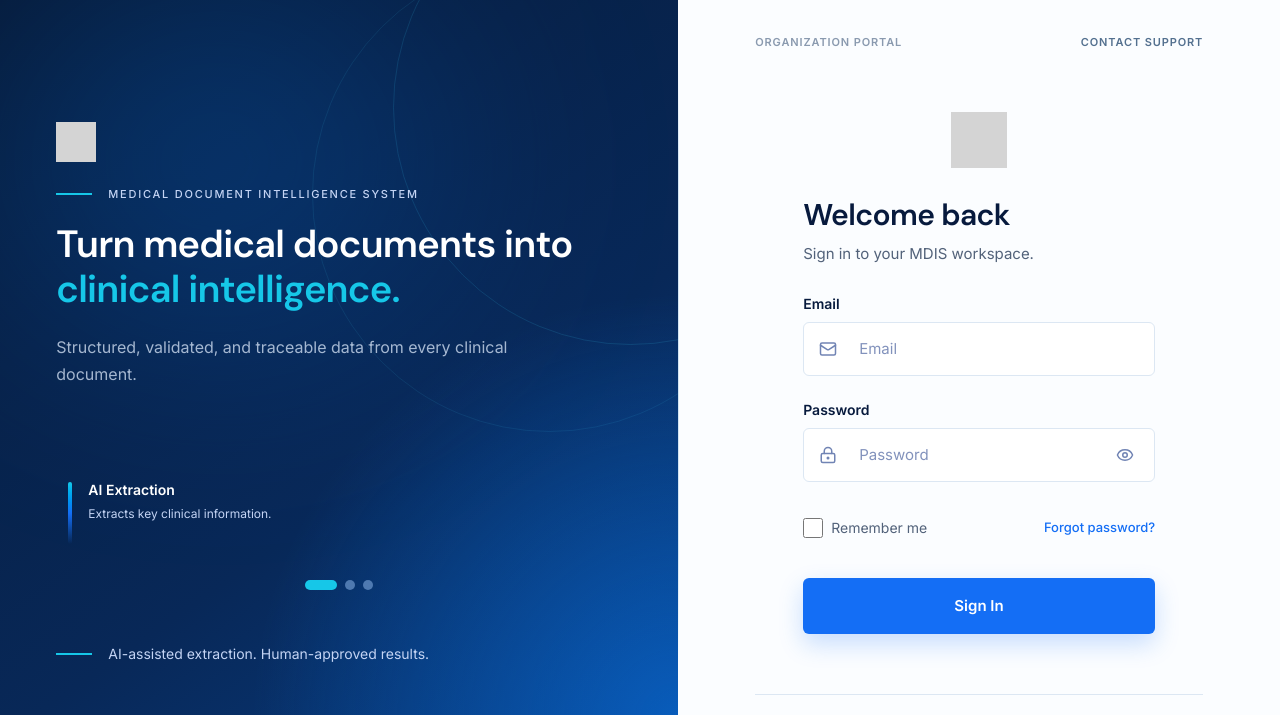
Test: frontend authentication core › shows the account status page for pending_email_verification
Type "clinician@example.test" into the field labelled "Email".
click(979, 348); type("clinician@example.test")  # box [803, 322, 1155, 376]
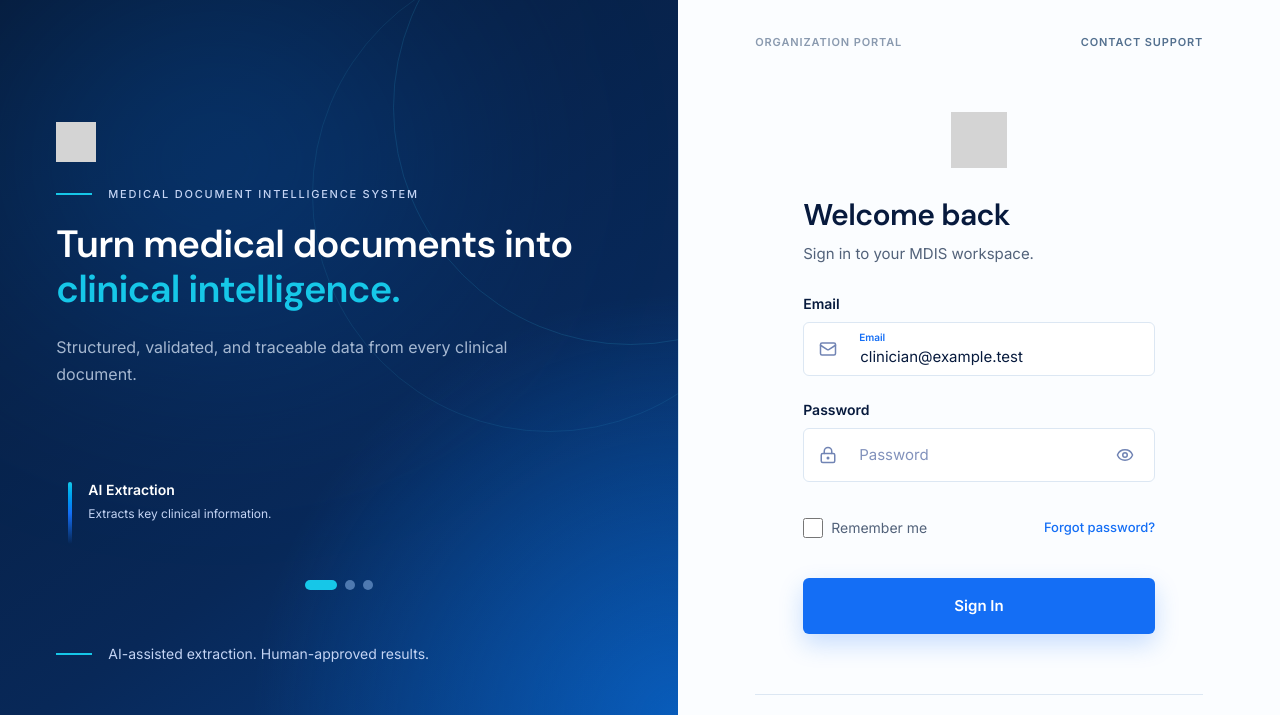
Type "synthetic secret phrase" into the password field labelled "Password".
click(979, 454); type("synthetic secret phrase")  # box [803, 428, 1155, 482]
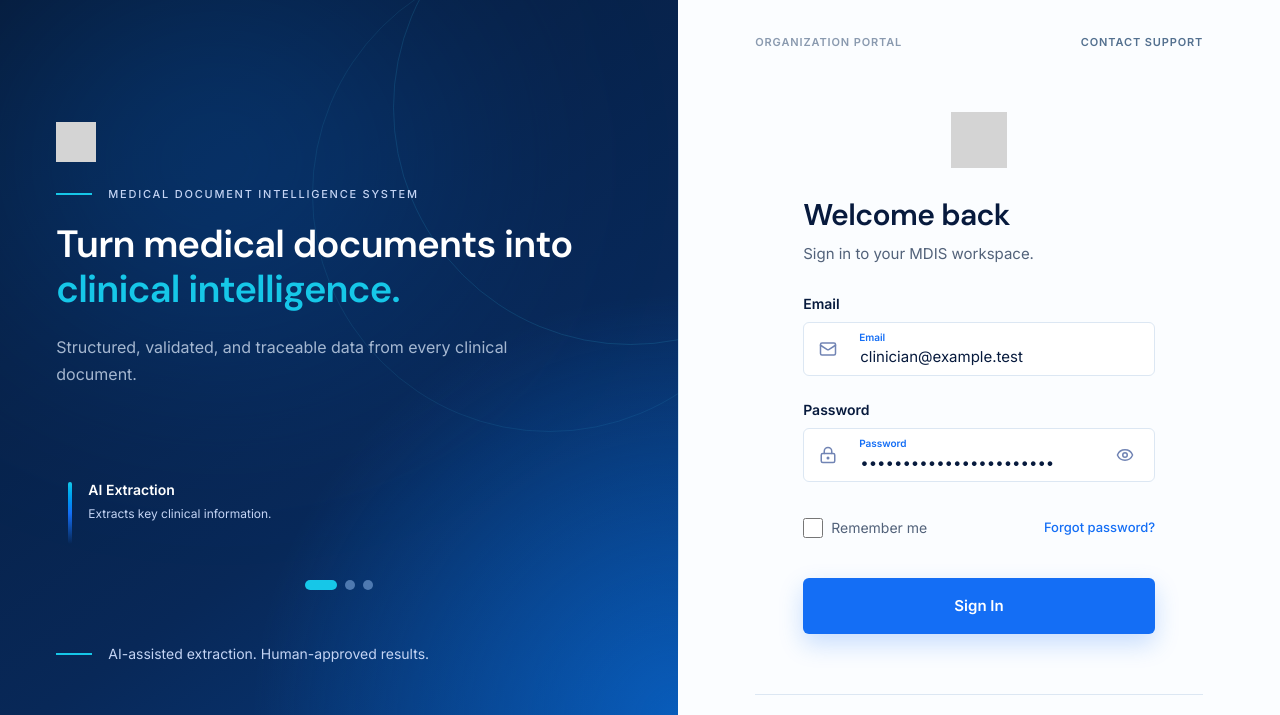
Click the button "Sign In".
click(979, 606)  # box [803, 578, 1155, 634]
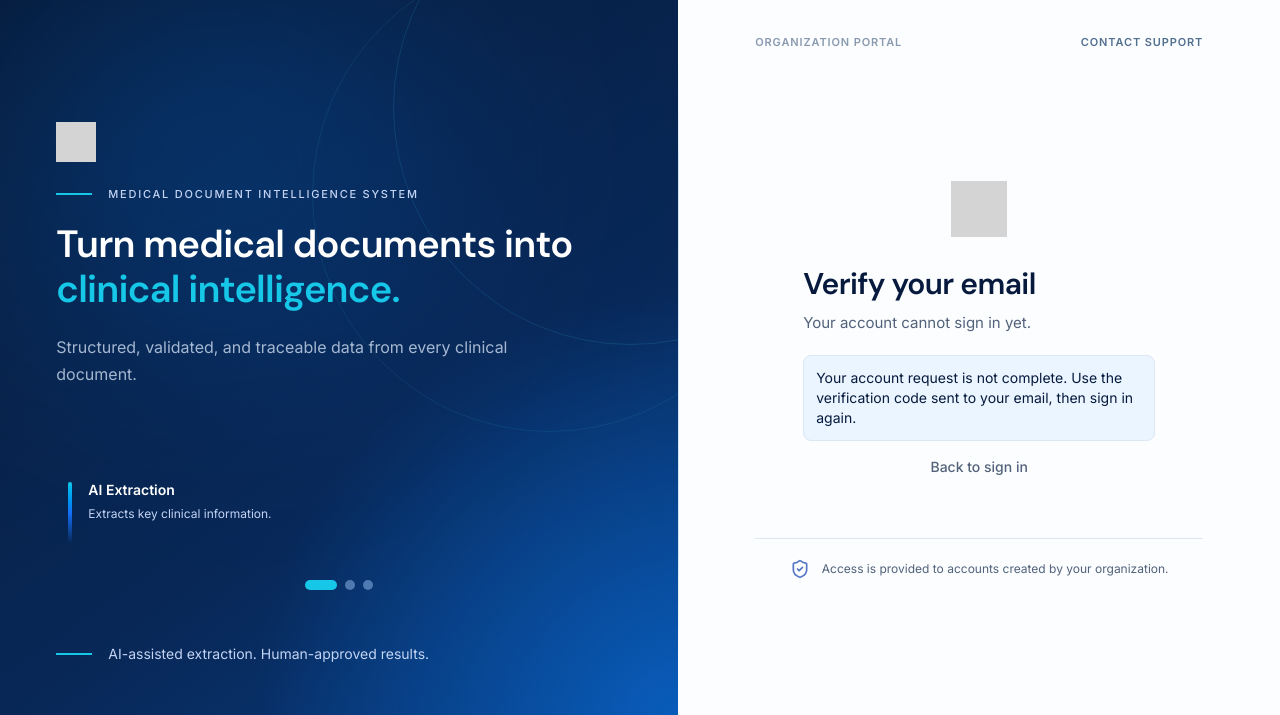
Now the heading "Verify your email" is shown, box [803, 264, 1036, 303]
Now the text labelled "Password" is gone
Now the button "Back to sign in" is shown, box [803, 457, 1155, 477]
